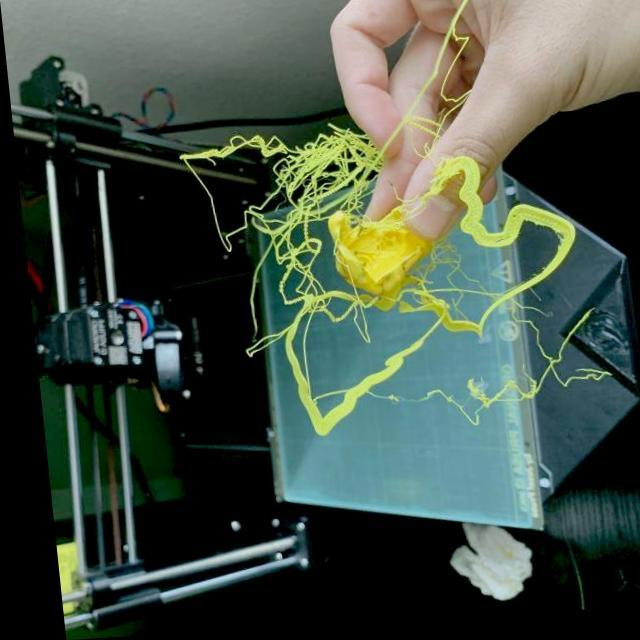spaghetti: (273, 134, 382, 220), (259, 214, 330, 311), (437, 380, 533, 430), (398, 247, 461, 308), (177, 137, 281, 171), (317, 297, 378, 342), (530, 357, 571, 393)
